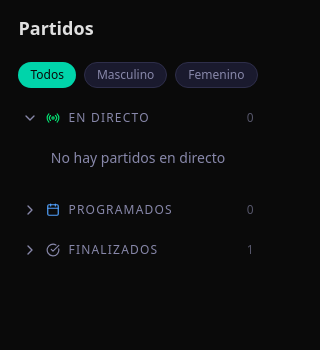
Test case: MatchesTab › shows score for finished match
Expected: the heading "Partidos" is shown, [18, 16, 94, 40]
# Expand Finalizados
Click the text "Finalizados": coordinates (113, 250) [68, 242, 158, 258]
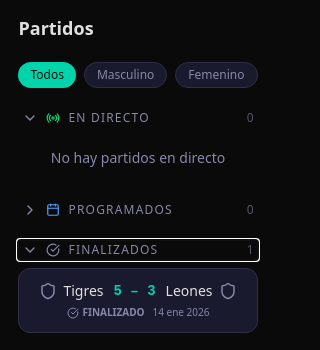
Expected: the text "Tigres" is shown, [63, 281, 104, 301]
Expected: the text "5 – 3" is shown, [114, 283, 156, 299]
